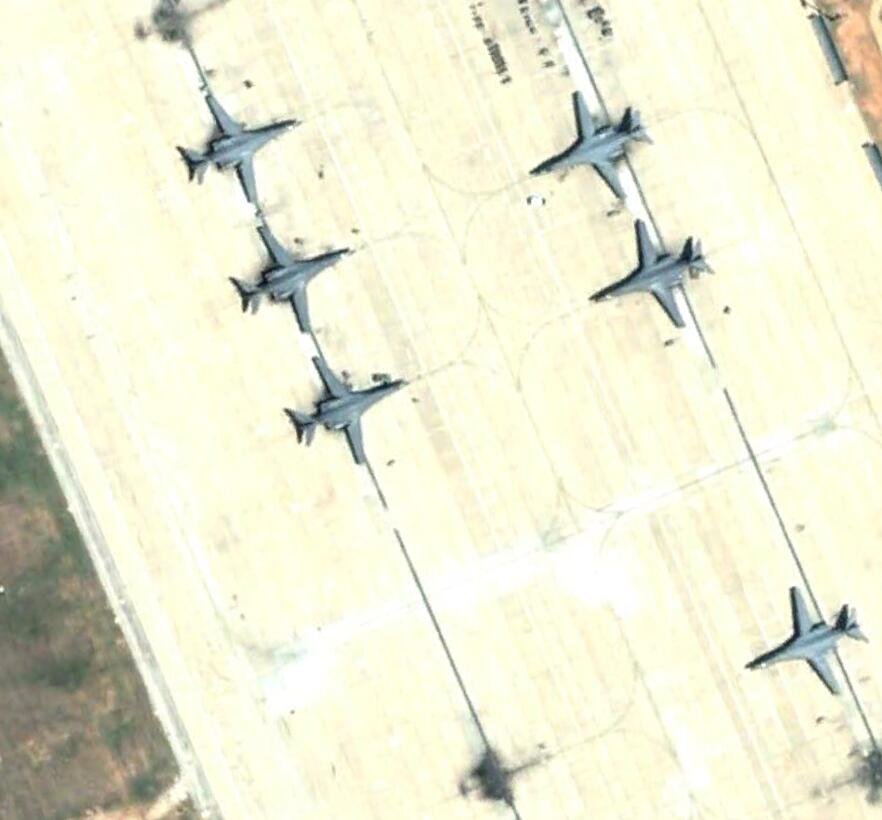A10: (276, 355, 412, 468), (743, 582, 874, 699), (527, 88, 659, 202), (584, 217, 718, 329), (227, 228, 361, 334), (177, 96, 307, 205)
